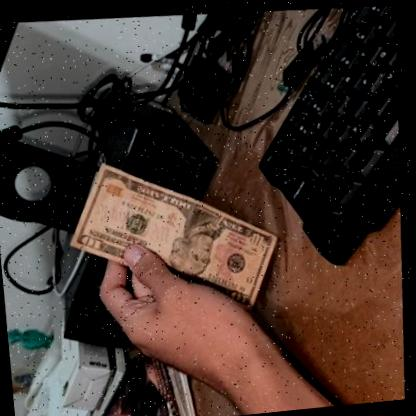ten-front: (57, 138, 297, 337)
